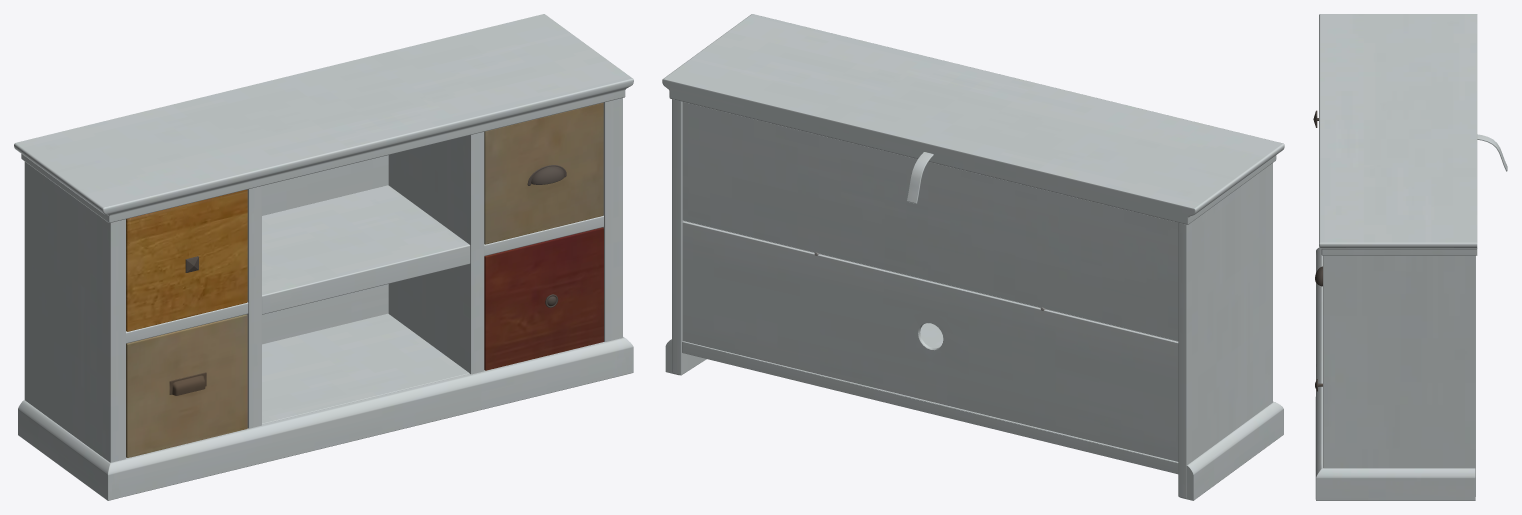
File: abo-B07ML7J5GN.glb
3 renders of one model, left to right at view 1: azimuth 30°, elevation 25°; view 2: azimuth 150°, elevation 25°; view 3: azimuth 270°, elevation 25°, orthographic. The views are drawn at different scales.
Size of the model in its own units: 1.19 by 0.624 by 0.424.
Materials: 1 (1 with a texture image).
